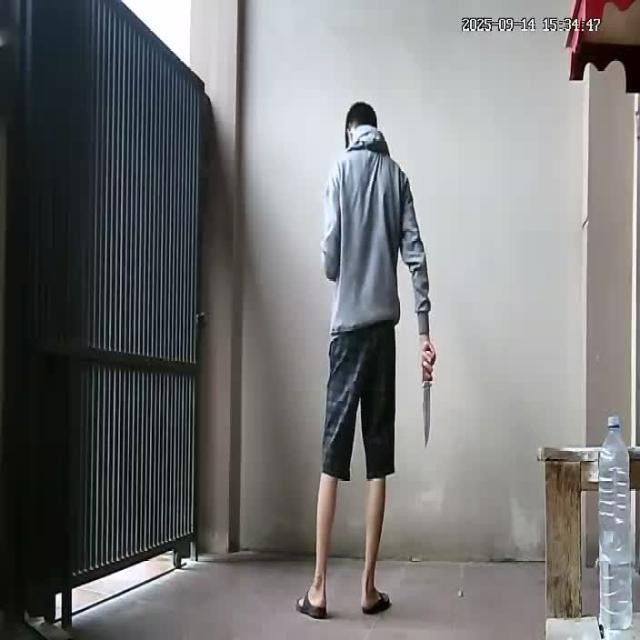senjata_tajam: (420, 378, 434, 451)
